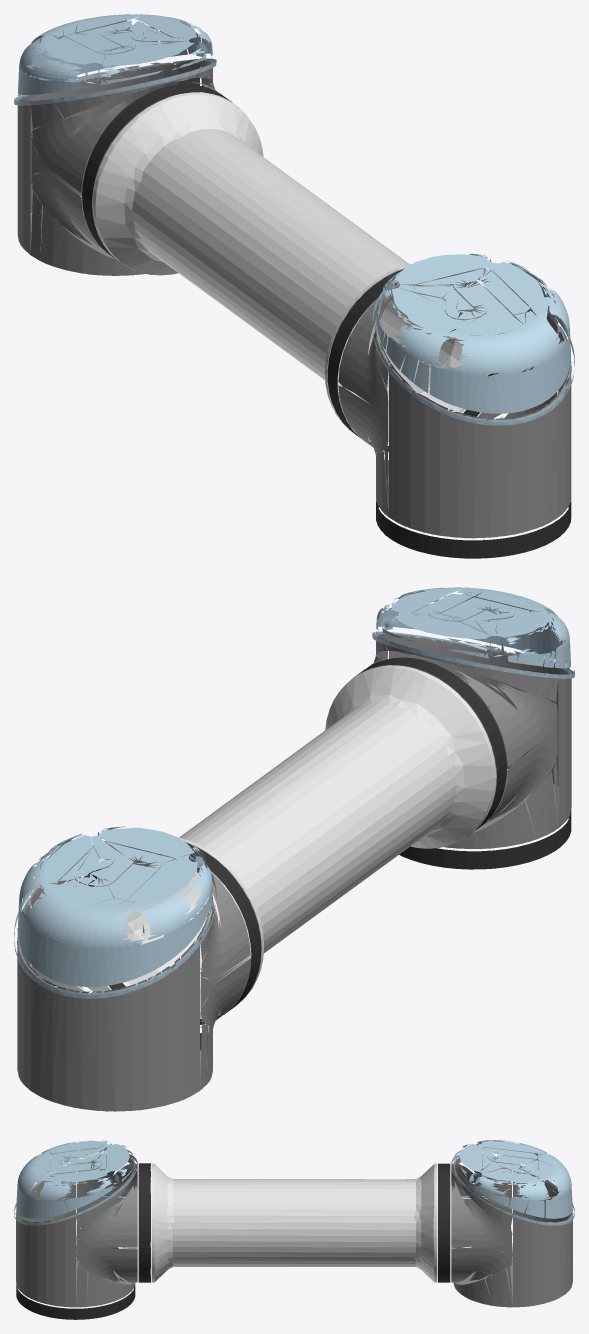
File: ur5e-upperarm.glb
The picture shows the model from 3 angles, top to bottom: view 1: azimuth 30°, elevation 25°; view 2: azimuth 150°, elevation 25°; view 3: azimuth 270°, elevation 25°; orthographic projection. The views are drawn at different scales.
Visible parts, largest first — view 1: ur5e-upperarm; view 2: ur5e-upperarm; view 3: ur5e-upperarm.
Part boxes in pixels (x1,y1,x2,y2): ur5e-upperarm: (14,14,574,558); ur5e-upperarm: (14,587,574,1111); ur5e-upperarm: (14,1140,574,1319).
Size of the model in its own units: 0.1202 by 0.1488 by 0.5452.
